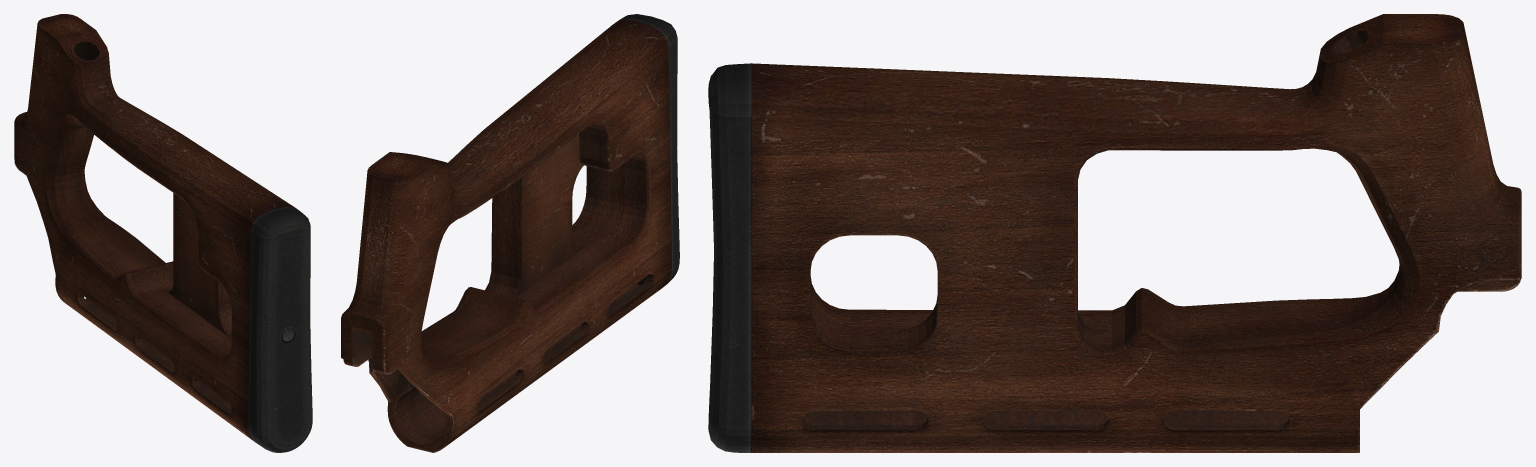
3 renders of one model, left to right at view 1: azimuth 30°, elevation 25°; view 2: azimuth 150°, elevation 25°; view 3: azimuth 270°, elevation 25°, orthographic. The views are drawn at different scales.
Visible parts, largest first — view 1: TW_5c0e2ff6d174af02a1659d4a_PZ_Import; view 2: TW_5c0e2ff6d174af02a1659d4a_PZ_Import; view 3: TW_5c0e2ff6d174af02a1659d4a_PZ_Import.
Part boxes in pixels (x1=…): TW_5c0e2ff6d174af02a1659d4a_PZ_Import: x1=14, y1=14, x2=312, y2=452; TW_5c0e2ff6d174af02a1659d4a_PZ_Import: x1=341, y1=14, x2=679, y2=452; TW_5c0e2ff6d174af02a1659d4a_PZ_Import: x1=708, y1=14, x2=1521, y2=452.
Size of the model in its own units: 0.0222 by 0.1719 by 0.0977.
1 material, 1 textured.
